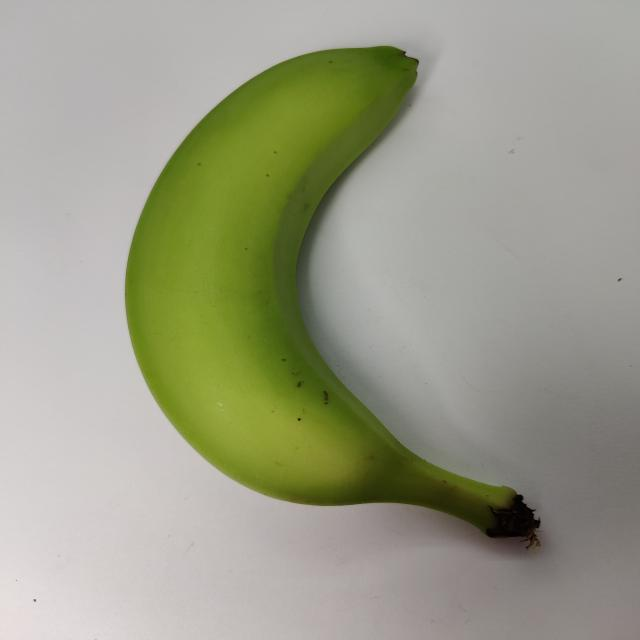raw: (90, 24, 547, 576)
